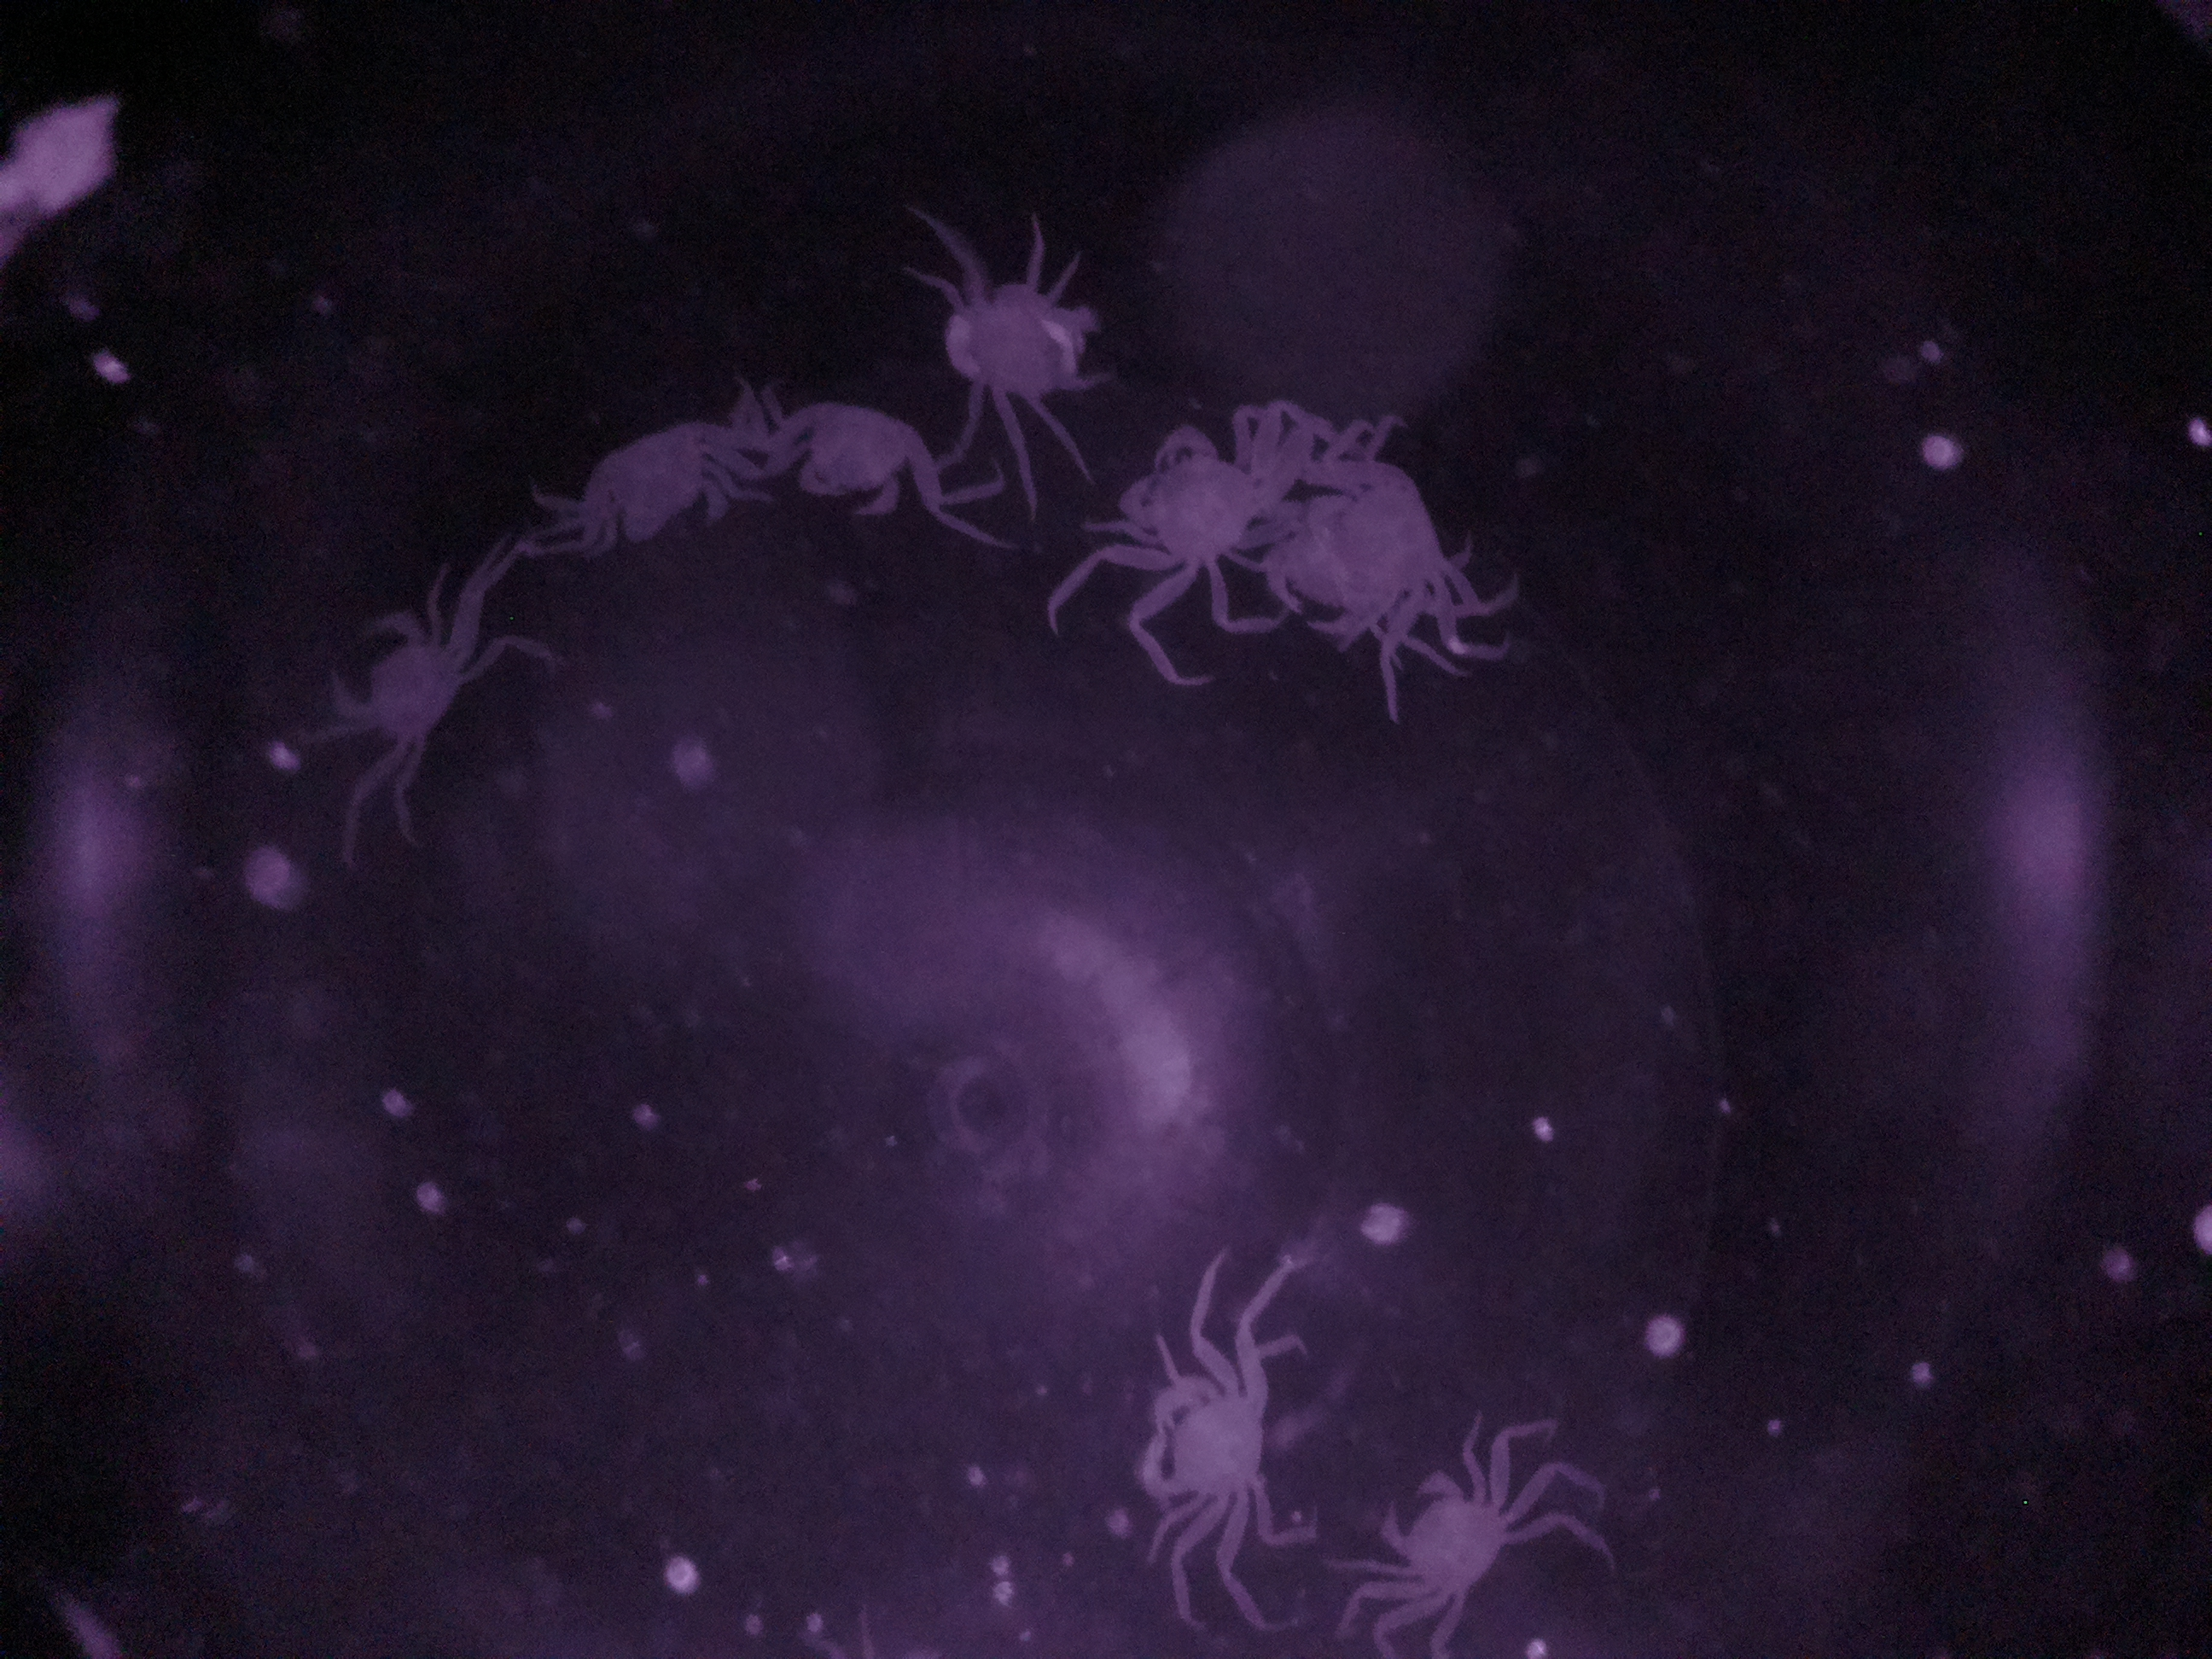Crab: (1113, 1297, 1294, 1558), (1090, 397, 1292, 613), (1348, 1431, 1534, 1638), (314, 589, 507, 777)
